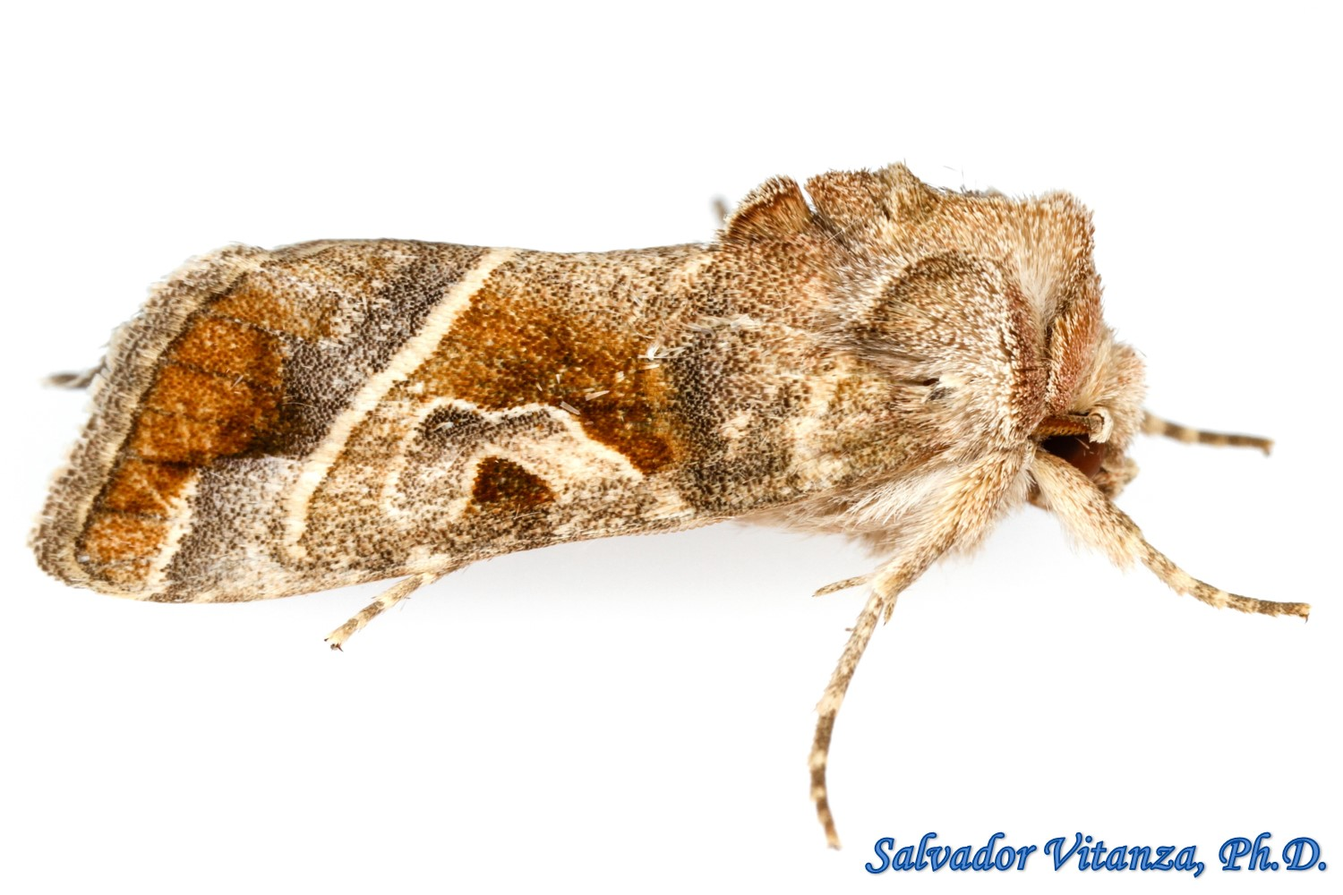Noctuidae: (29, 161, 1317, 851)
